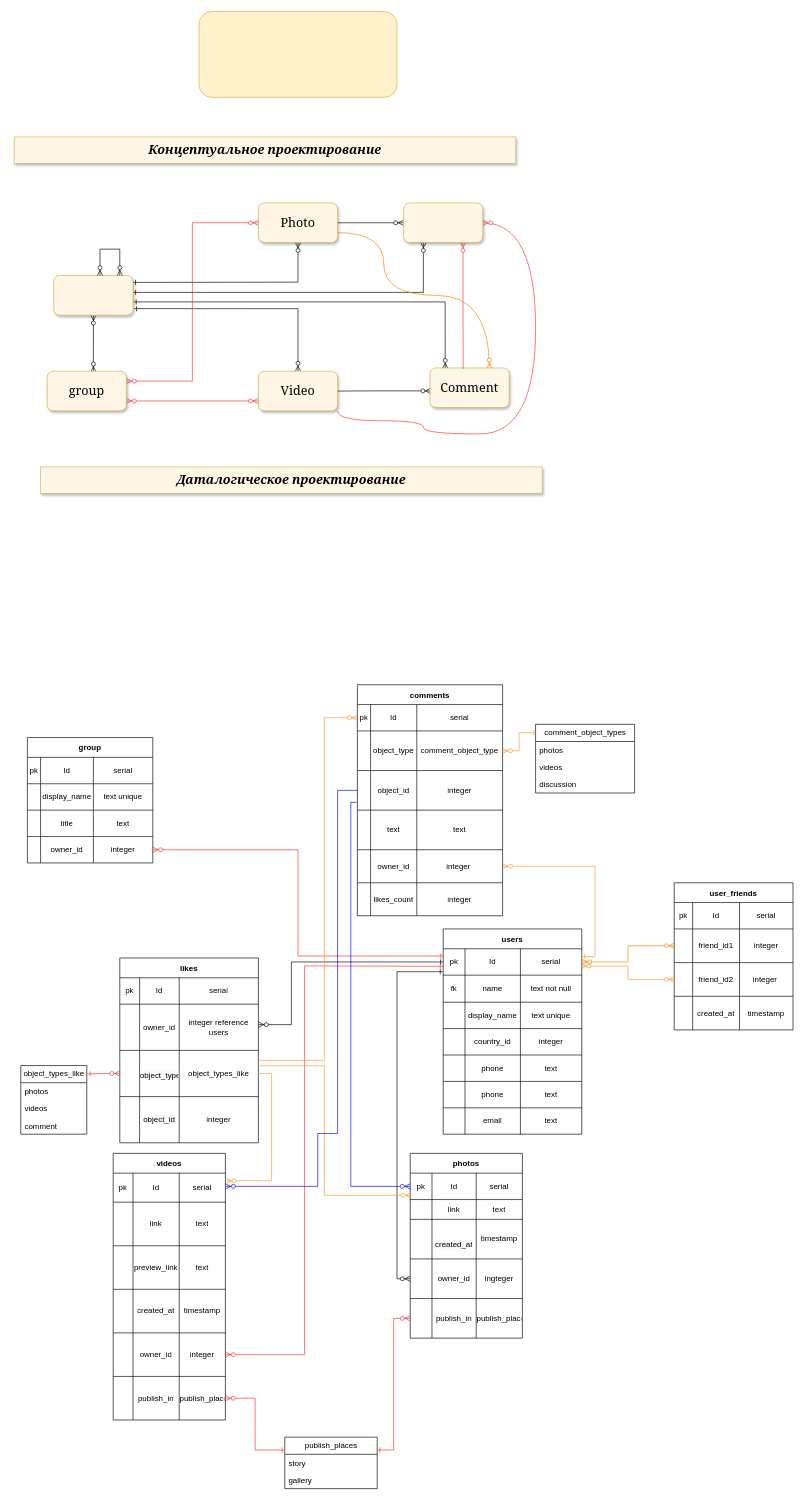
Some shapes in this 805 by 1502 pixel diagram are drawn without their labels. The shapes that lost their labels are listed below. From the top down, each one's centre as x and y in pixels, then its label:
point (297, 54): New VK
point (443, 223): Like
point (93, 296): User
